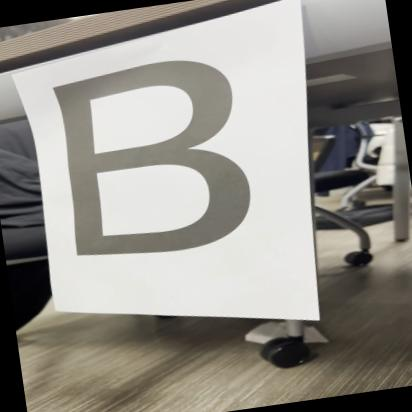seat: (30, 36, 317, 284)
